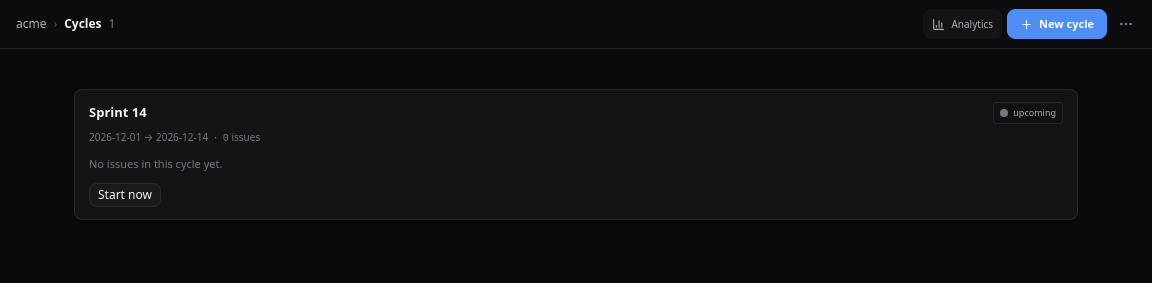
manual start/end actions (C79T1) › a 400 on start stays actionable with the message inline
This screenshot has width=1152, height=283.
Click the button "Start now": click(125, 194) [89,182,161,206]
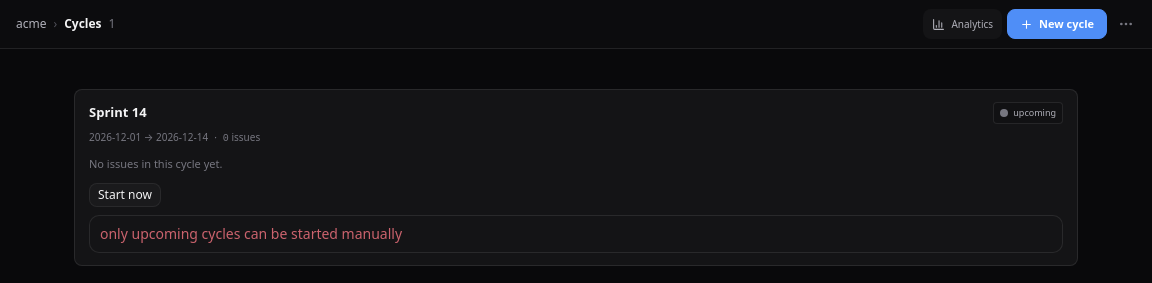
Now the text "only upcoming cycles can be started manually" is shown, box [100,224,402,242]
Still actionable: retry clears the error.
Click the button "Start now": click(125, 194) [89,182,161,206]
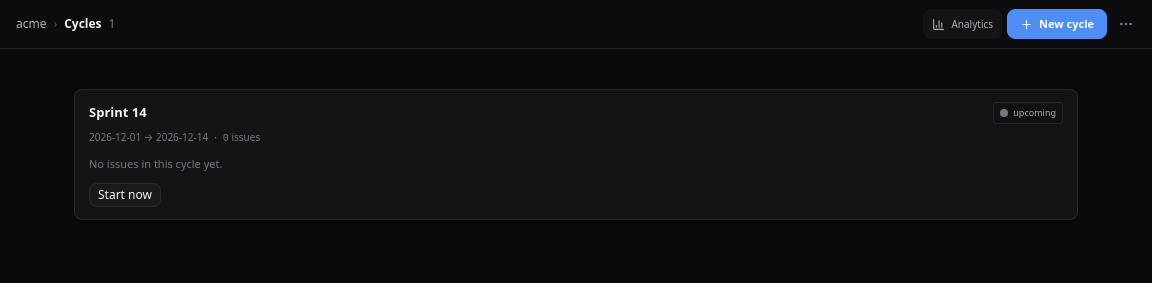
Now the text "only upcoming cycles can be started manually" is gone
